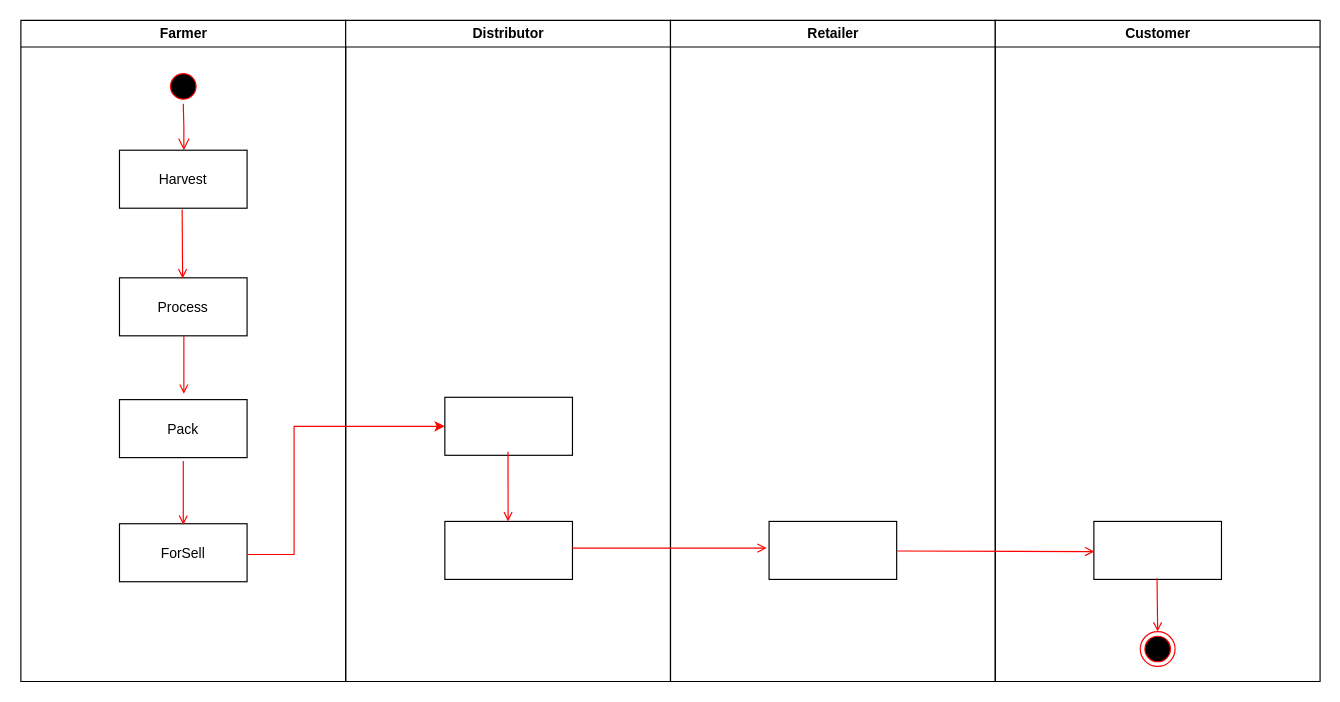
The diagram is 1340 pixels wide and 702 high, and some of its shapes have lost their labels. Each missing label, with the centre of its shape:
"Buy" belongs at (508,425).
"Purchase" belongs at (1157,549).
"Receive" belongs at (832,549).
"Ship" belongs at (508,549).
